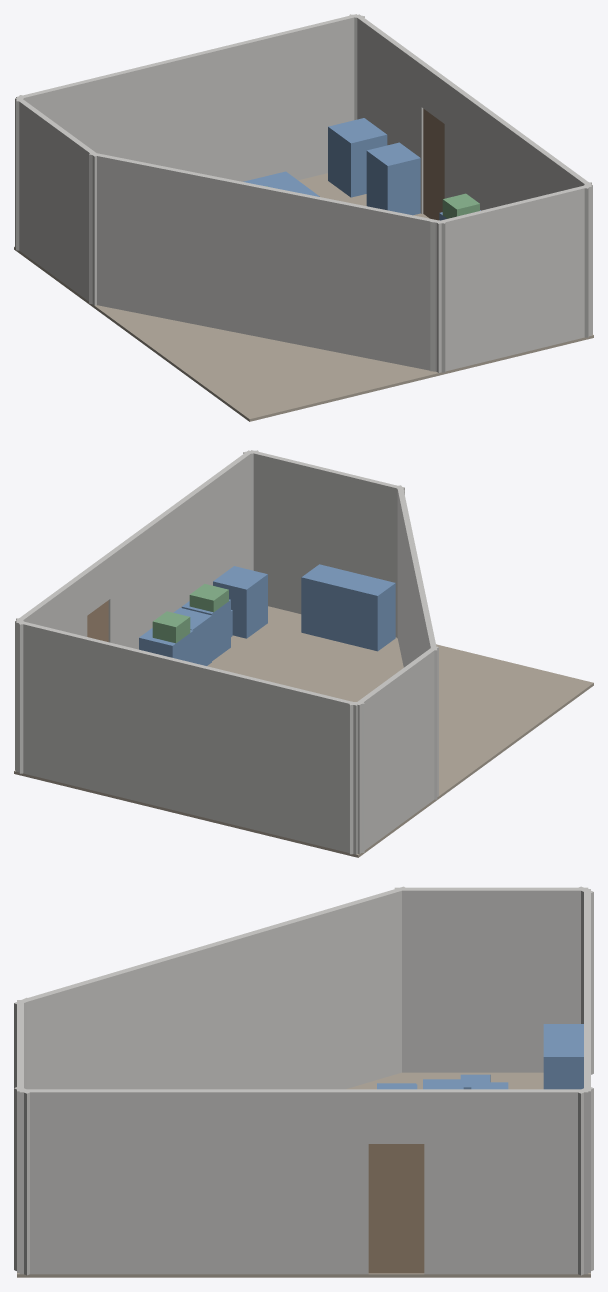
Rendered from room_061.glb.
3 views of the same model, one above another, from view 1: azimuth 30°, elevation 25°; view 2: azimuth 150°, elevation 25°; view 3: azimuth 270°, elevation 25° (orthographic). The views are drawn at different scales.
Parts seen in each view (by area): view 1: shell_wall_2_s0, shell_wall_8_s0, shell_wall_4_s0, shell_floor, shell_wall_1_s0, shell_wall_6_s0, shell_wall_6_s2, obj_017, obj_018, shell_wall_6_door, shell_wall_3_s0, shell_wall_6_s1 (+4 smaller); view 2: shell_wall_8_s0, shell_floor, shell_wall_4_s0, shell_wall_6_s0, shell_wall_1_s0, obj_000, shell_wall_2_s0, shell_wall_6_s2, obj_003, shell_wall_0_s0, shell_wall_6_s1, obj_008 (+6 smaller); view 3: shell_wall_6_s0, shell_wall_2_s0, shell_wall_1_s0, shell_wall_6_s2, shell_wall_6_door, shell_floor, shell_wall_6_s1, obj_002, shell_wall_8_s0, shell_wall_7_s0, shell_wall_5_s0, shell_wall_4_s0 (+2 smaller).
Part boxes in pixels (box(x1,y1,x2,y2)): shell_wall_2_s0: box(89, 152, 441, 371); shell_wall_8_s0: box(16, 14, 358, 181); shell_wall_4_s0: box(437, 185, 591, 372); shell_floor: box(14, 173, 593, 421); shell_wall_1_s0: box(15, 98, 96, 305); shell_wall_6_s0: box(444, 80, 592, 334); shell_wall_6_s2: box(355, 14, 426, 213); obj_017: box(366, 142, 420, 215); obj_018: box(328, 118, 387, 197); shell_wall_6_door: box(423, 108, 444, 220); shell_wall_3_s0: box(430, 220, 446, 372); shell_wall_6_s1: box(421, 63, 448, 123); shell_wall_8_s0: box(16, 621, 357, 854); shell_floor: box(14, 606, 593, 857); shell_wall_4_s0: box(249, 450, 404, 637); shell_wall_6_s0: box(105, 450, 252, 649); shell_wall_1_s0: box(356, 646, 438, 854); obj_000: box(301, 564, 395, 651); shell_wall_2_s0: box(397, 487, 437, 799); shell_wall_6_s2: box(15, 572, 87, 770); obj_003: box(213, 566, 267, 638); shell_wall_0_s0: box(349, 701, 364, 854); shell_wall_6_s1: box(83, 555, 110, 615); obj_008: box(173, 607, 211, 665); shell_wall_6_s0: box(19, 1089, 368, 1274); shell_wall_2_s0: box(27, 886, 405, 1089); shell_wall_1_s0: box(394, 887, 588, 1072); shell_wall_6_s2: box(424, 1089, 588, 1274); shell_wall_6_door: box(368, 1144, 424, 1273); shell_floor: box(17, 1072, 590, 1277); shell_wall_6_s1: box(368, 1089, 424, 1143); obj_002: box(543, 1024, 583, 1089); shell_wall_8_s0: box(584, 889, 590, 1272); shell_wall_7_s0: box(578, 1086, 593, 1275); shell_wall_5_s0: box(14, 1087, 30, 1275); shell_wall_4_s0: box(17, 1000, 23, 1272).
Bounding box in the file's own units: 6.85 × 2.85 × 8.1.
